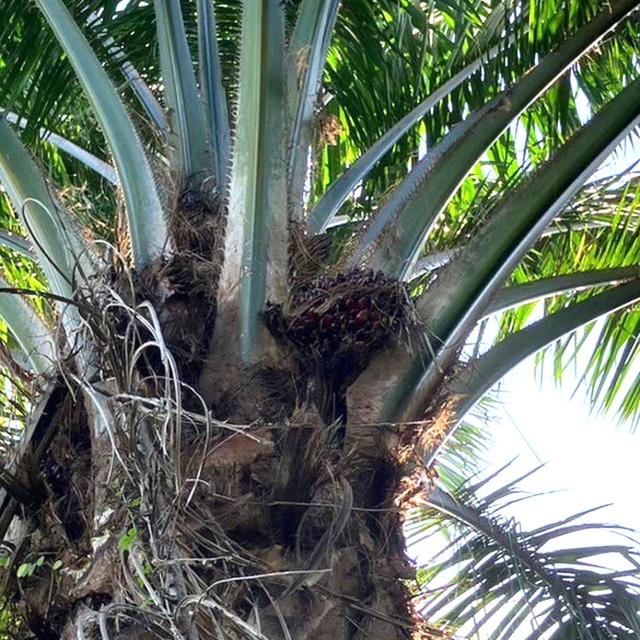ripe: (293, 268, 418, 366)
